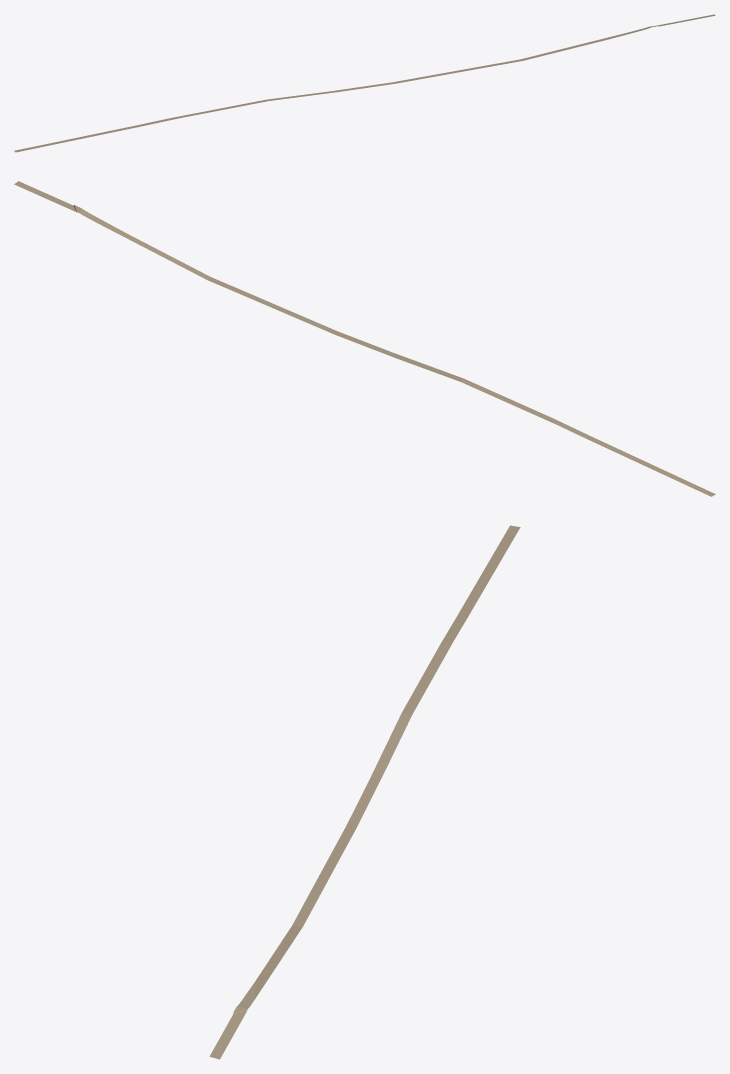
File: farm_-9_-8_track.glb
3 renders of one model, top to bottom at view 1: azimuth 30°, elevation 25°; view 2: azimuth 150°, elevation 25°; view 3: azimuth 270°, elevation 25°, orthographic. The views are drawn at different scales.
Parts seen in each view (by area): view 1: geometry_0; view 2: geometry_0; view 3: geometry_0.
Boxes of the visible parts, <box> form: geometry_0: <box>14,14,715,152</box>; geometry_0: <box>14,181,715,496</box>; geometry_0: <box>209,525,520,1059</box>.
Size of the model in its own units: 441 by 26.79 by 94.93.
